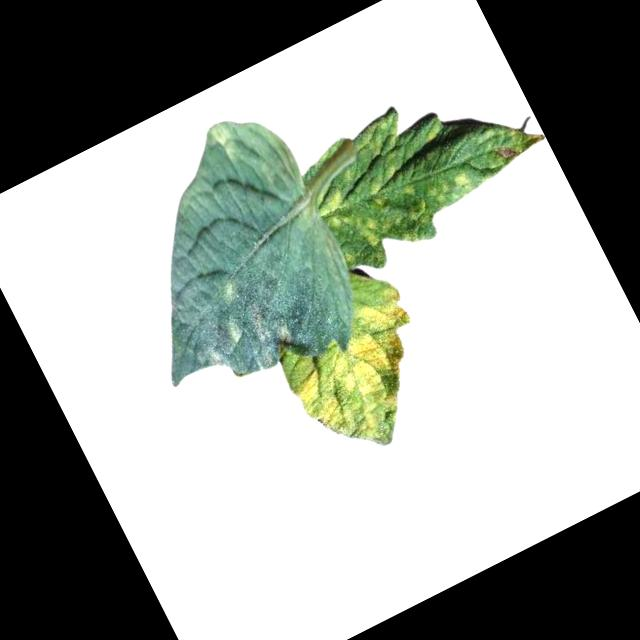Leaf_Mold: (287, 52, 565, 285), (267, 282, 459, 474), (172, 265, 300, 393), (202, 98, 311, 221)
